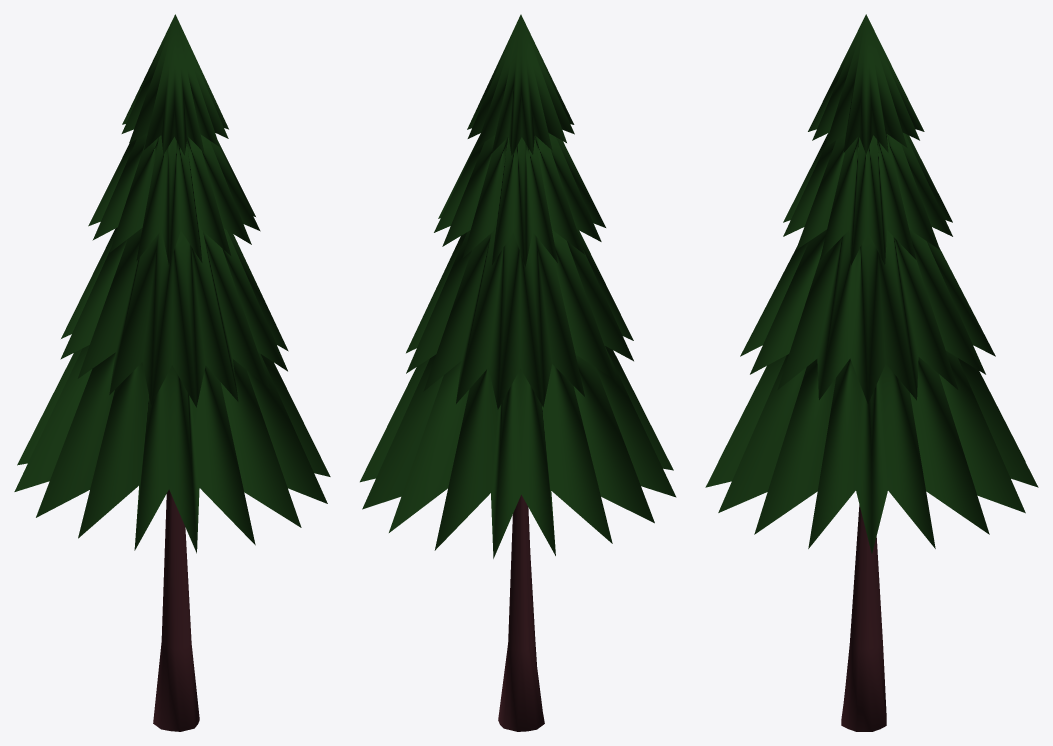
The model's file is tree_001.fbx.
The picture shows the model from 3 angles, left to right: view 1: azimuth 30°, elevation 25°; view 2: azimuth 150°, elevation 25°; view 3: azimuth 270°, elevation 25°; orthographic projection.
Visible parts, largest first — view 1: treeLeaves_001_04, treeLeaves_001_03, treeLeaves_001_02, treeLeaves_001_01, treeTrunk_001; view 2: treeLeaves_001_04, treeLeaves_001_03, treeLeaves_001_02, treeLeaves_001_01, treeTrunk_001; view 3: treeLeaves_001_04, treeLeaves_001_03, treeLeaves_001_02, treeLeaves_001_01, treeTrunk_001.
Part boxes in pixels (bbox=[...]): treeLeaves_001_04: bbox=[14, 345, 330, 553]; treeLeaves_001_03: bbox=[60, 216, 288, 407]; treeLeaves_001_02: bbox=[88, 133, 260, 264]; treeLeaves_001_01: bbox=[121, 14, 228, 155]; treeTrunk_001: bbox=[153, 489, 199, 731]; treeLeaves_001_04: bbox=[360, 345, 676, 558]; treeLeaves_001_03: bbox=[406, 218, 633, 409]; treeLeaves_001_02: bbox=[434, 133, 605, 266]; treeLeaves_001_01: bbox=[467, 14, 574, 155]; treeTrunk_001: bbox=[498, 495, 544, 731]; treeLeaves_001_04: bbox=[705, 351, 1038, 553]; treeLeaves_001_03: bbox=[740, 229, 995, 403]; treeLeaves_001_02: bbox=[783, 132, 952, 265]; treeLeaves_001_01: bbox=[808, 14, 924, 154]; treeTrunk_001: bbox=[841, 505, 886, 731].
Size of the model in its own units: 285 by 703 by 300.
